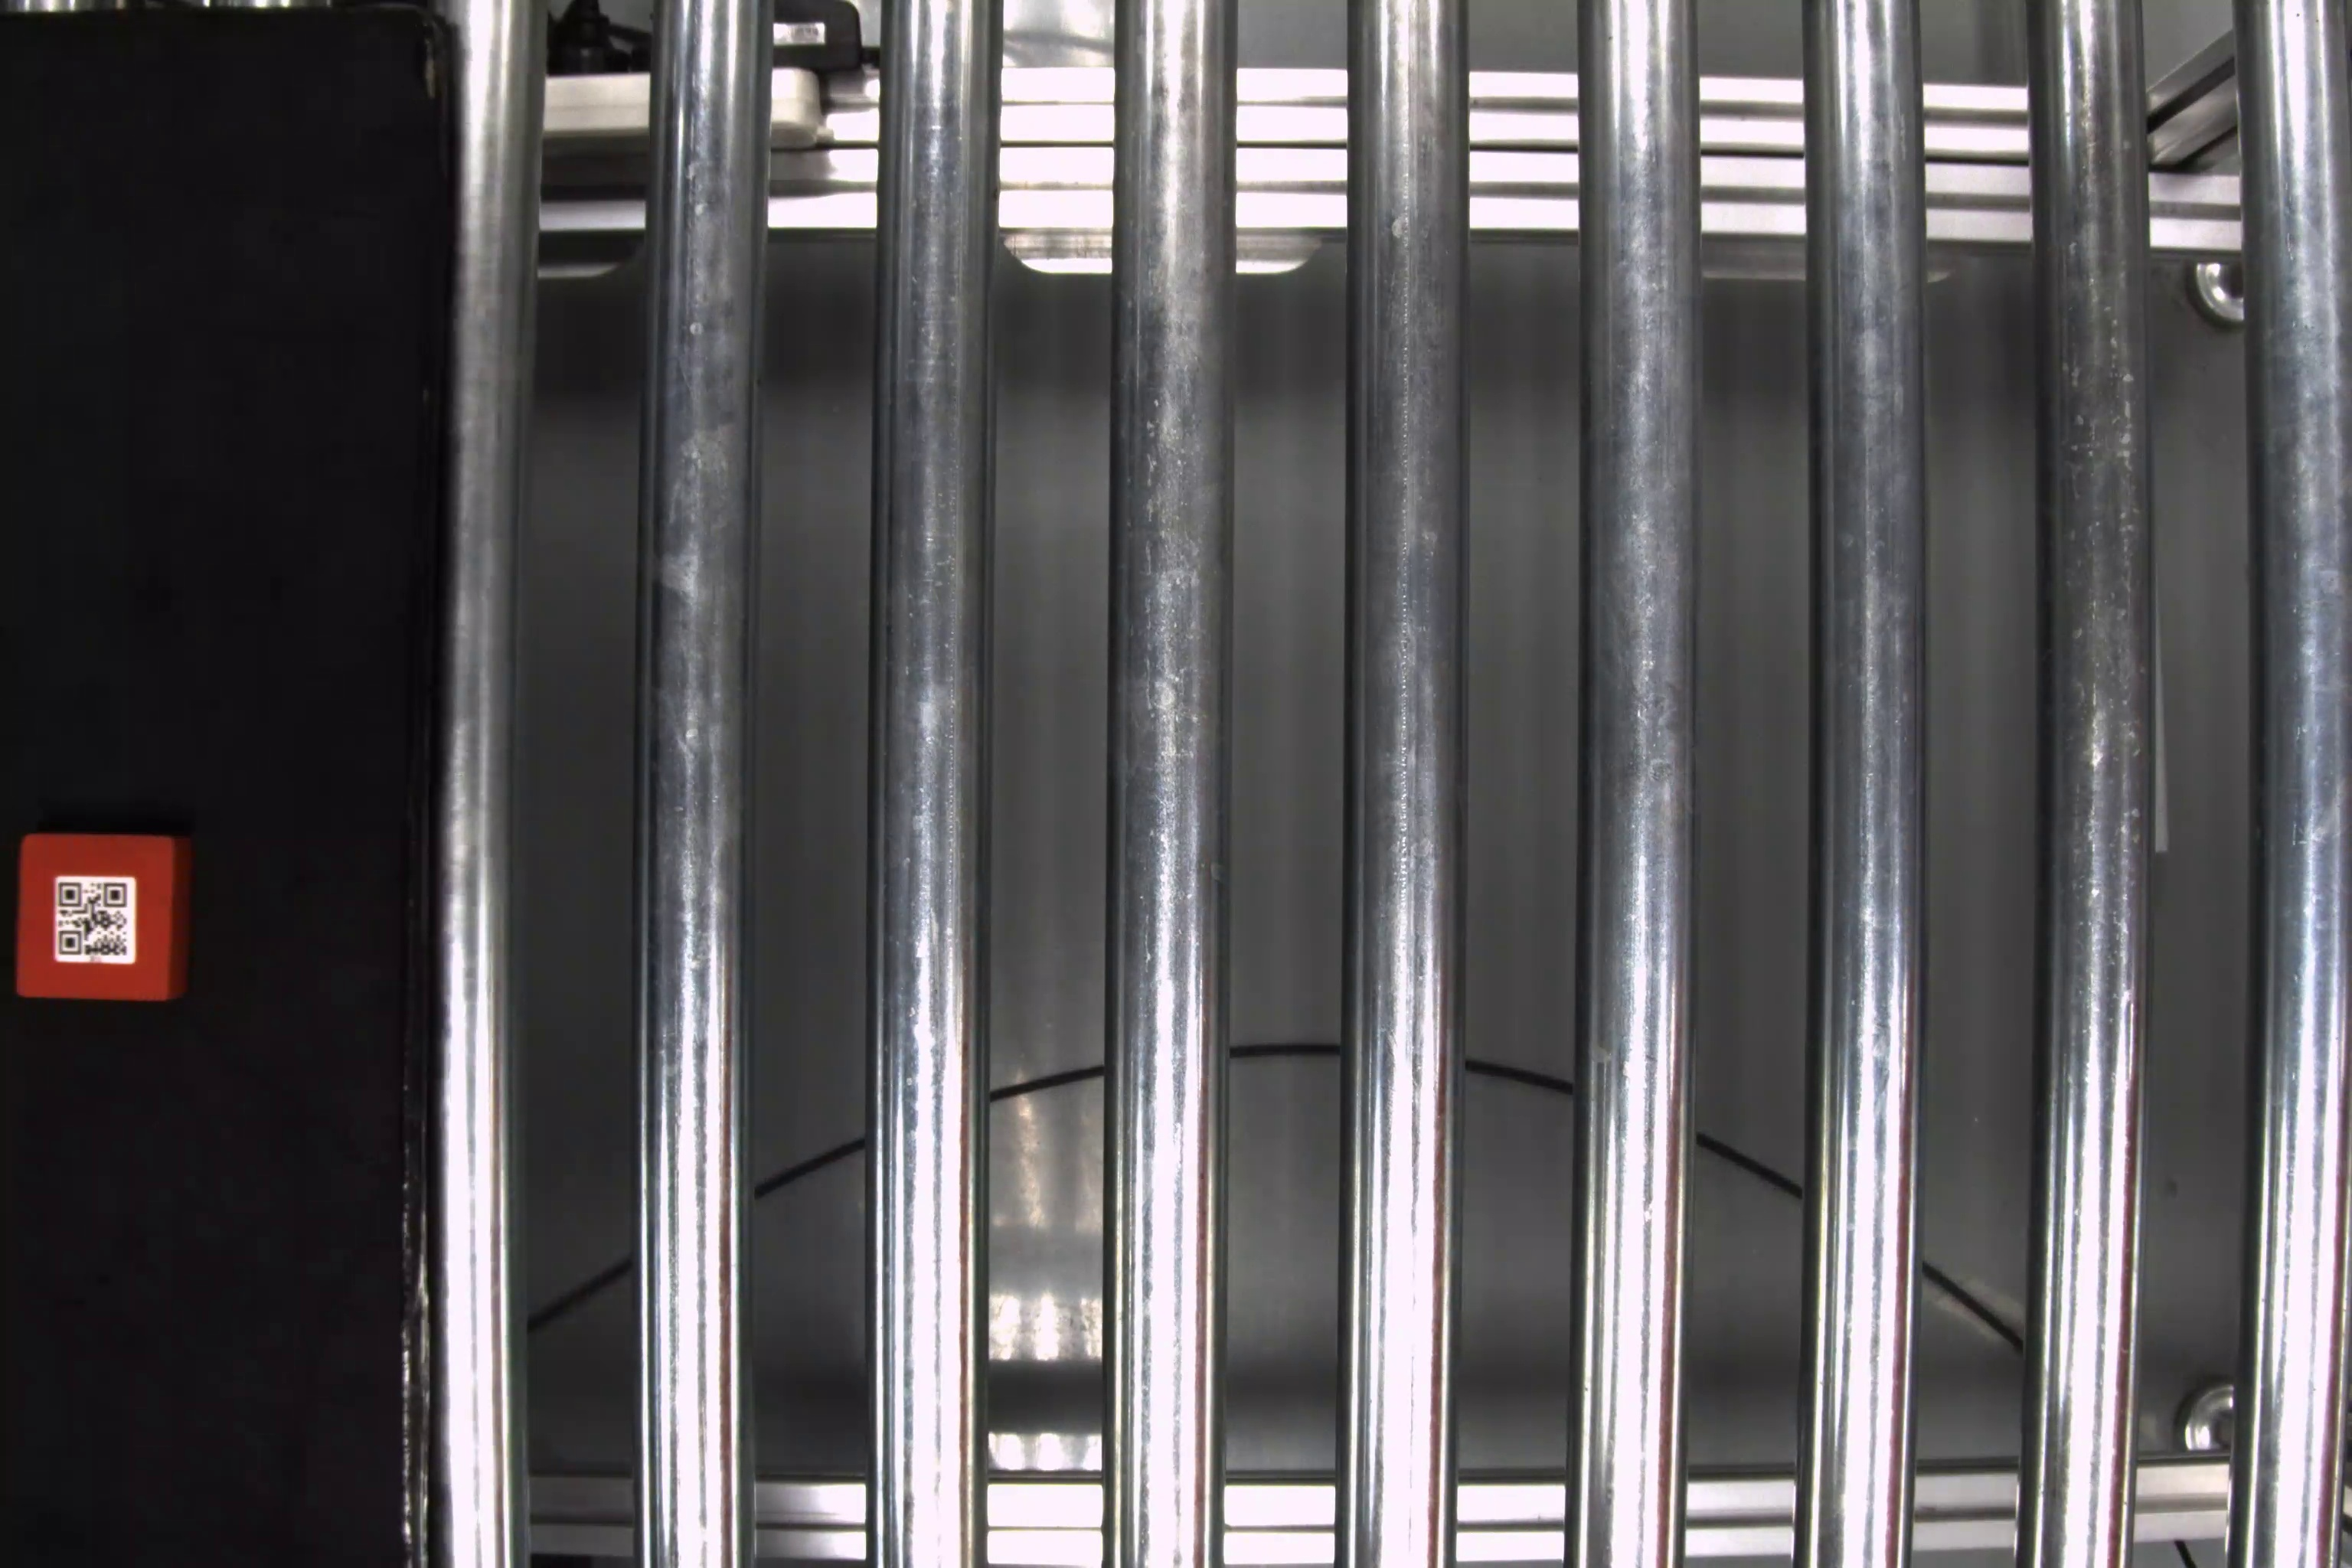wood: (16, 828, 196, 1006)
